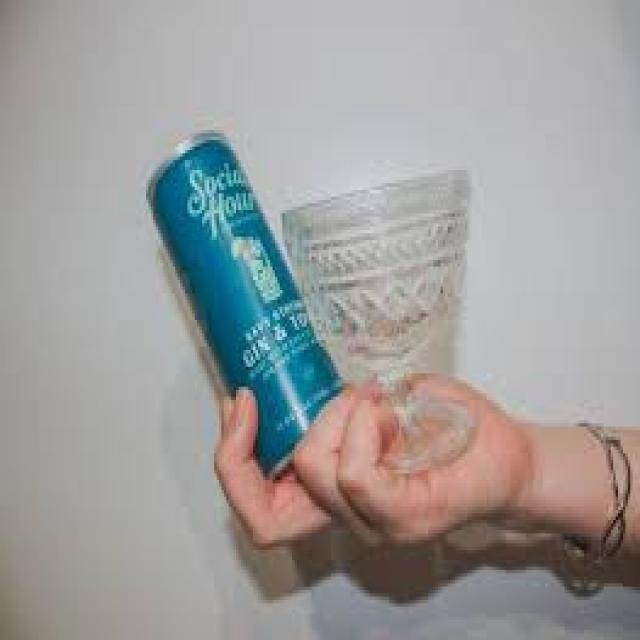Cans: (134, 120, 358, 480)
